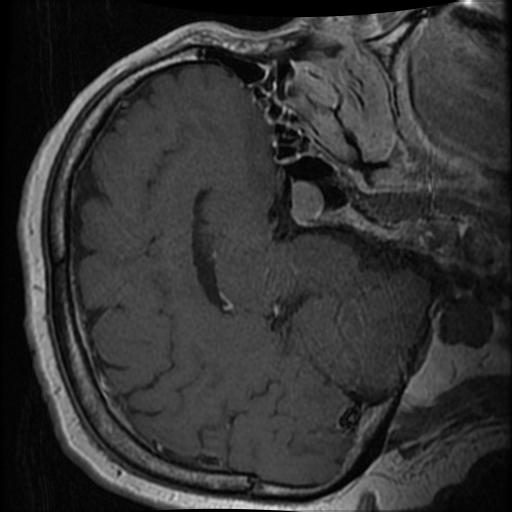pituitary tumour: (290, 178, 324, 225)
